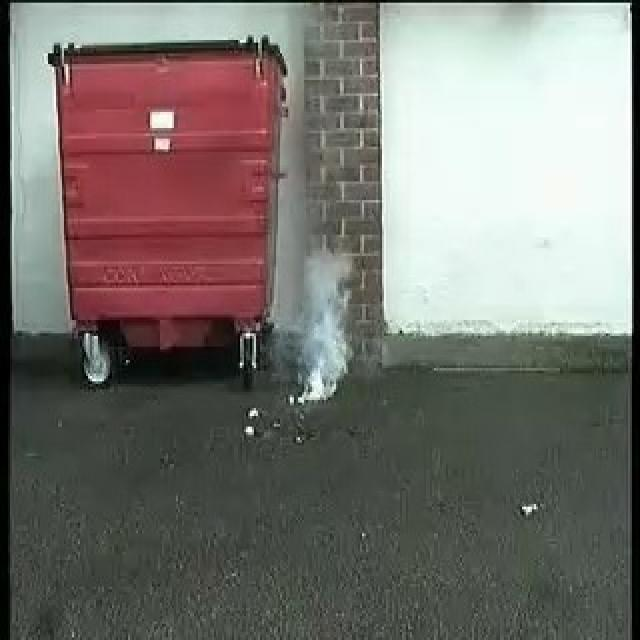smoke: (276, 254, 352, 405)
